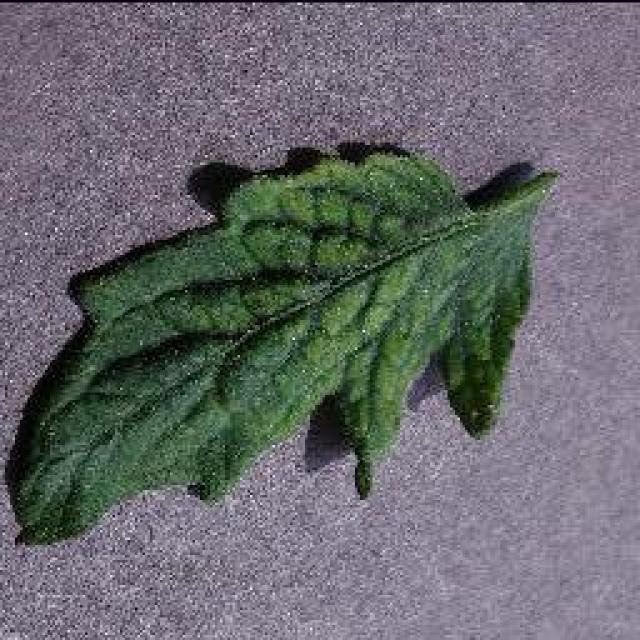Tomato___Tomato_mosaic_virus: (15, 152, 552, 540)
